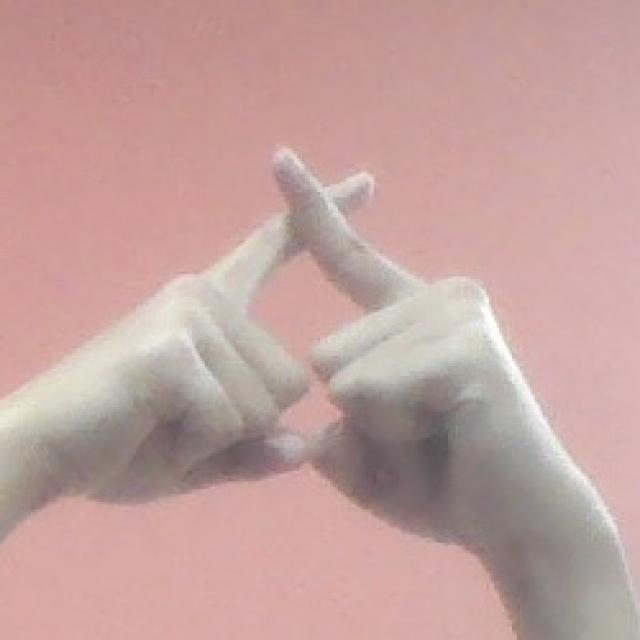Alphabet-X: (73, 144, 564, 567)
